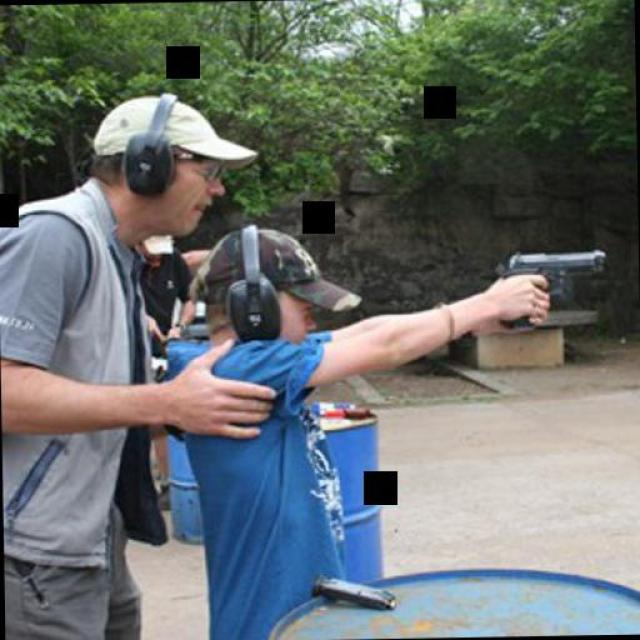gun: (492, 249, 606, 329)
